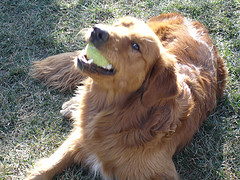tennis ball: (84, 38, 112, 71)
